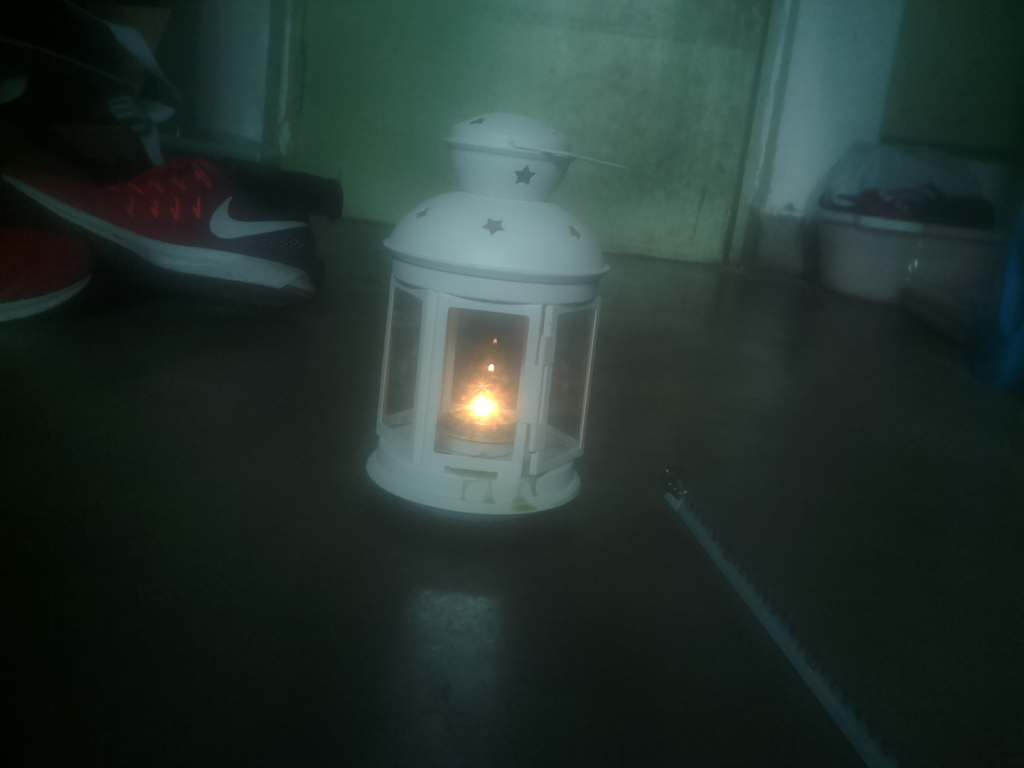fire: (436, 352, 521, 463)
